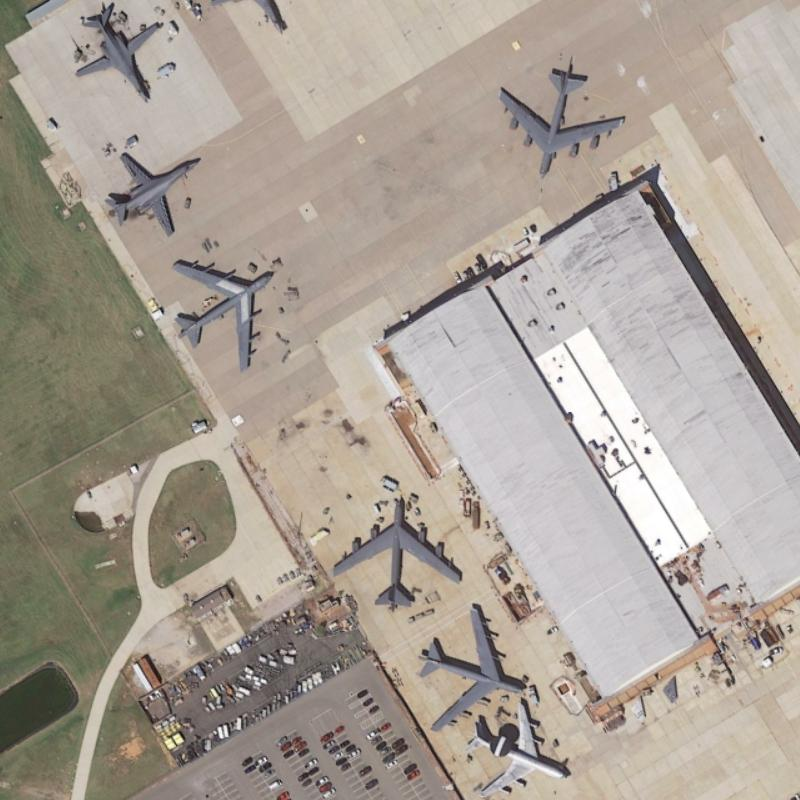A10: (96, 137, 203, 243), (66, 0, 167, 109)
A7: (455, 695, 578, 799)
A8: (325, 488, 464, 619), (493, 57, 627, 183), (410, 599, 536, 730), (153, 249, 279, 379)
